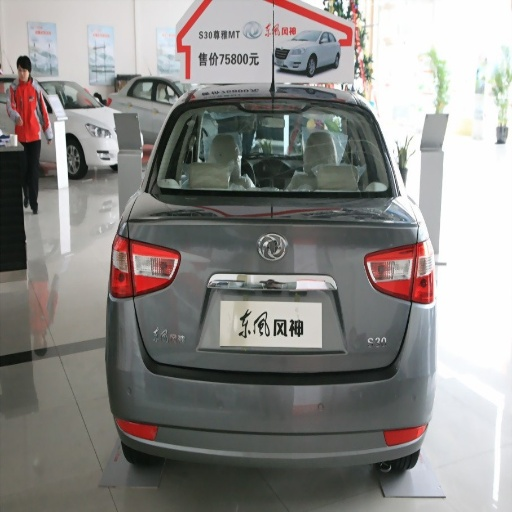back_bumper: (107, 298, 440, 470)
tailgate: (145, 192, 418, 378)
